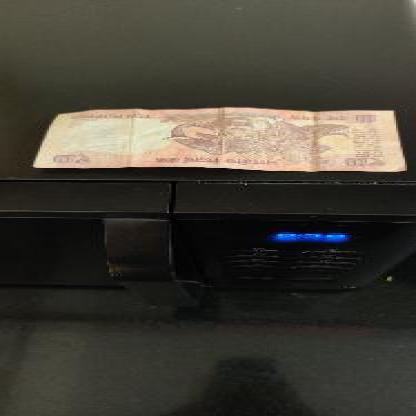Old10Back: (36, 109, 402, 169)
